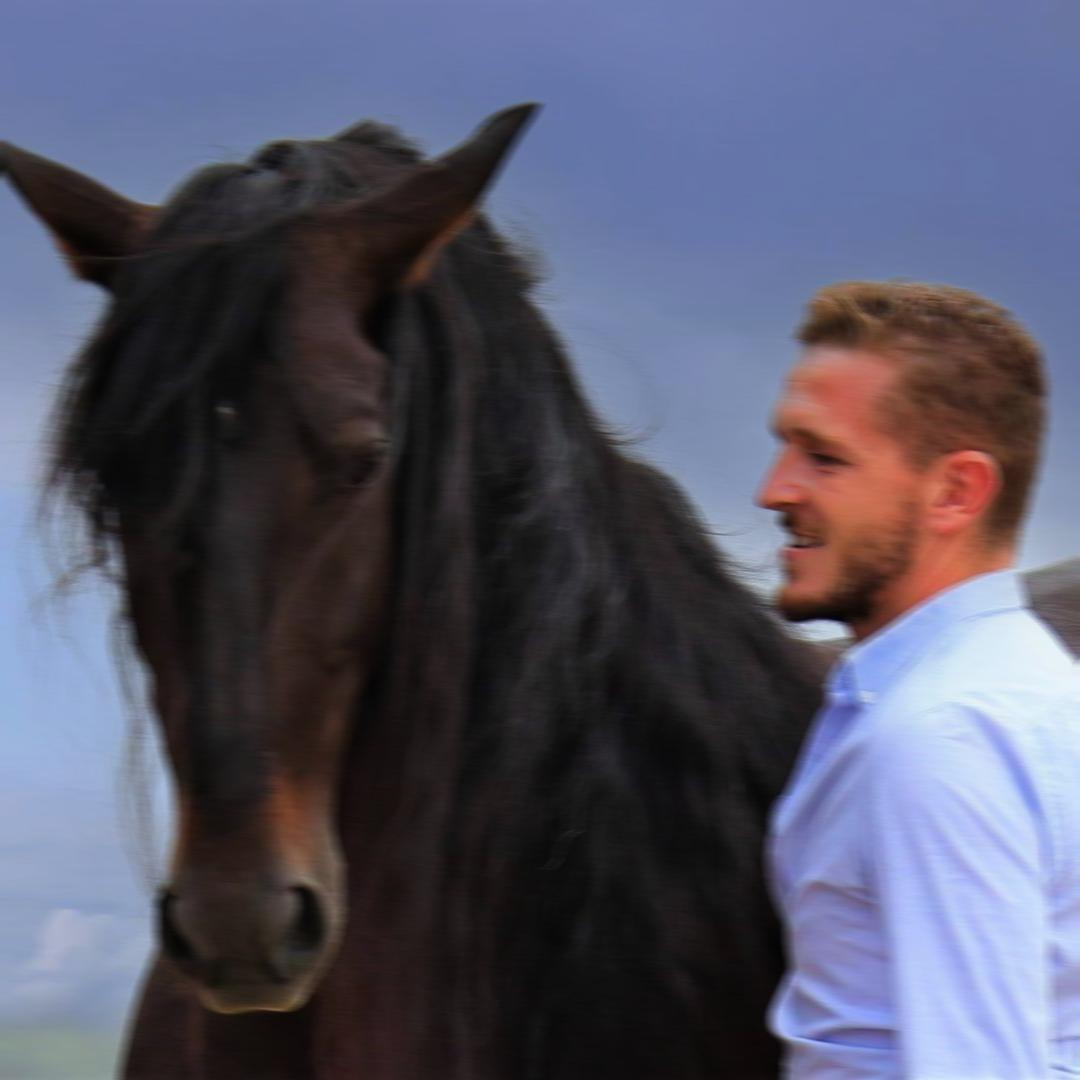horse: (0, 98, 1080, 1079)
